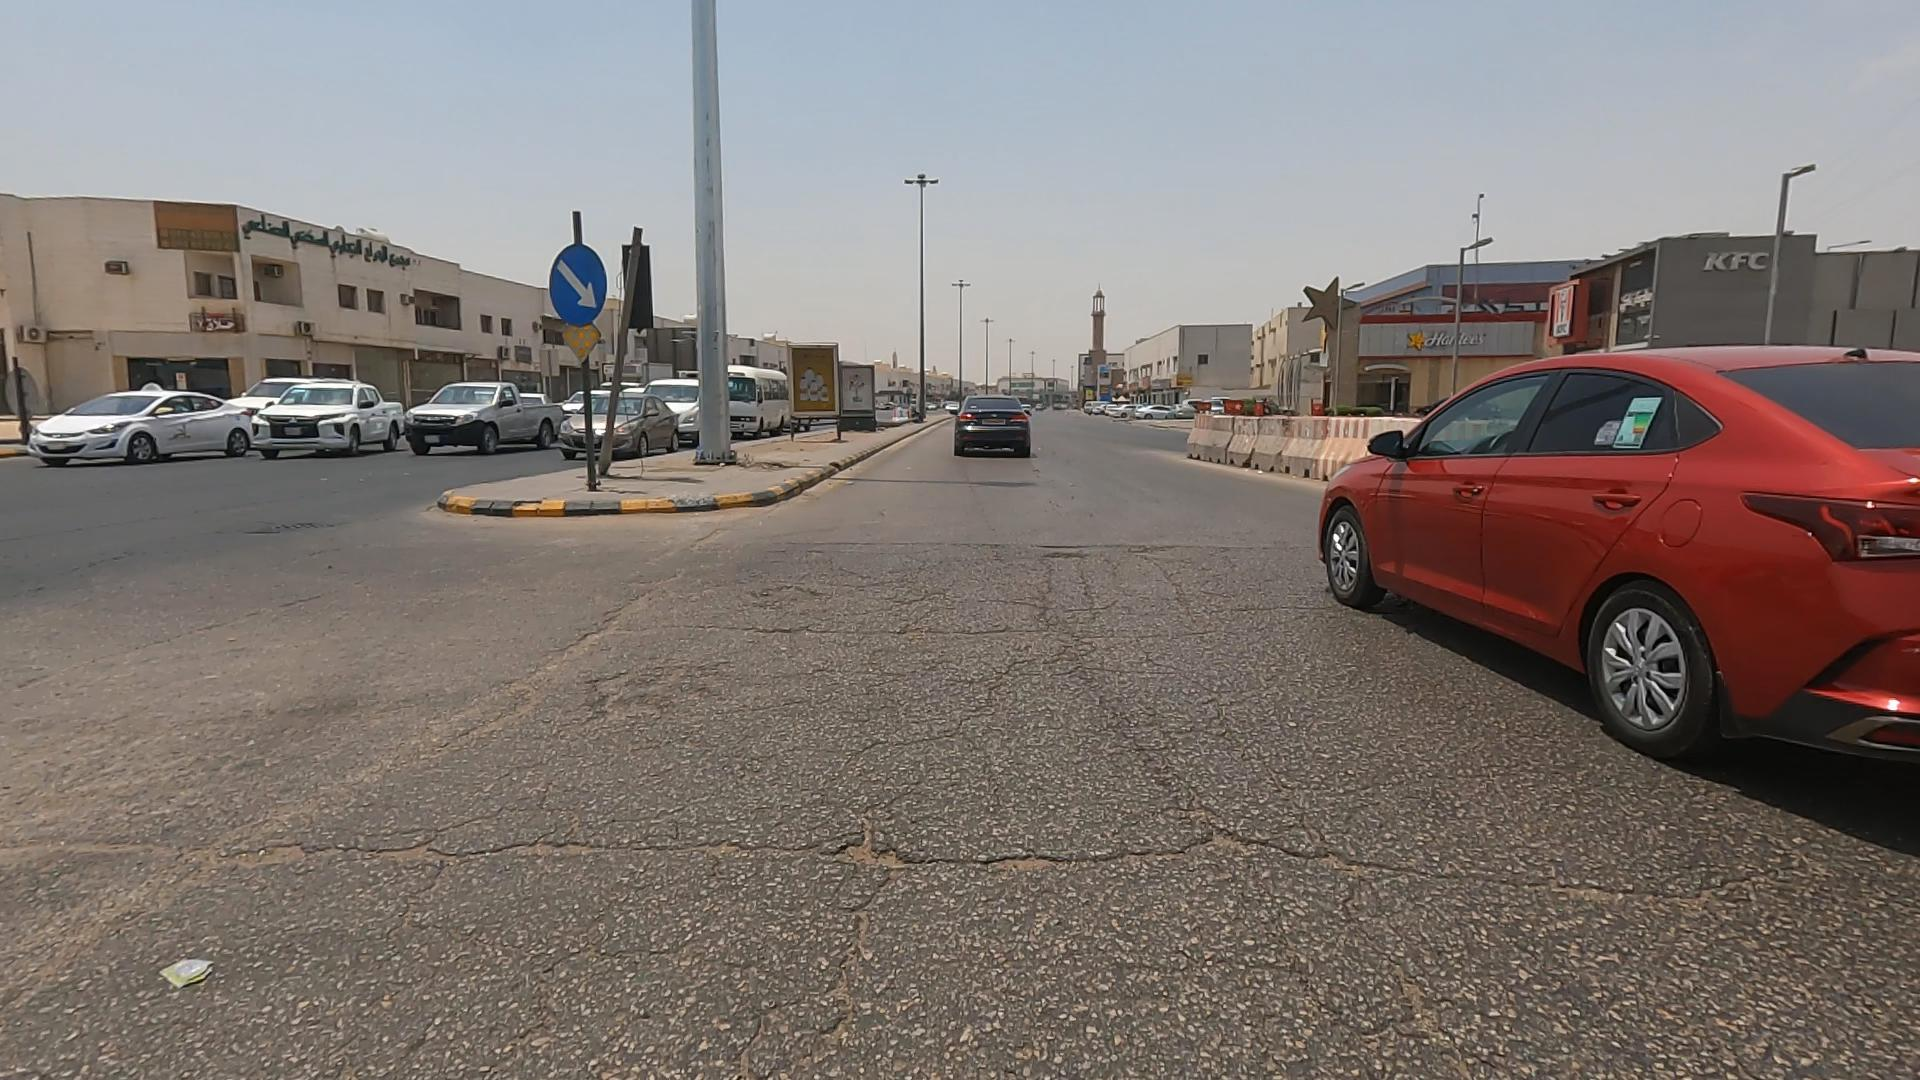CONSTRUCTION_ROAD: (1112, 338, 1472, 521)
